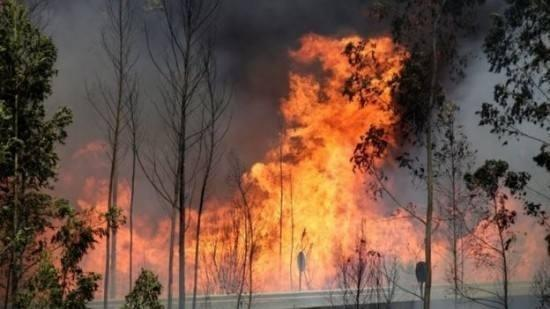fire: (60, 20, 541, 287)
